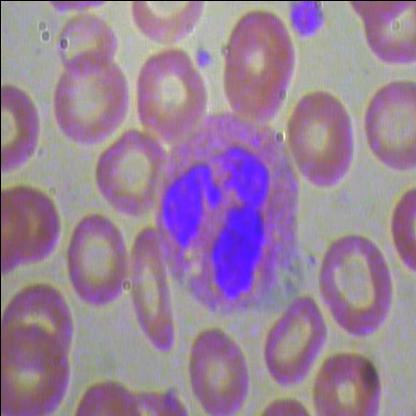Platelets: (286, 1, 326, 43), (192, 46, 216, 68)
RBC: (313, 227, 399, 341), (282, 84, 358, 200), (50, 58, 130, 150), (129, 50, 209, 142), (223, 11, 296, 108), (94, 126, 165, 222), (64, 214, 130, 312), (260, 294, 328, 388), (186, 322, 254, 415), (128, 227, 178, 352), (1, 182, 63, 281), (0, 330, 72, 415), (362, 80, 416, 175), (1, 78, 51, 176), (311, 348, 383, 416), (53, 10, 118, 80), (359, 1, 415, 66)
WBC: (145, 110, 315, 314)
